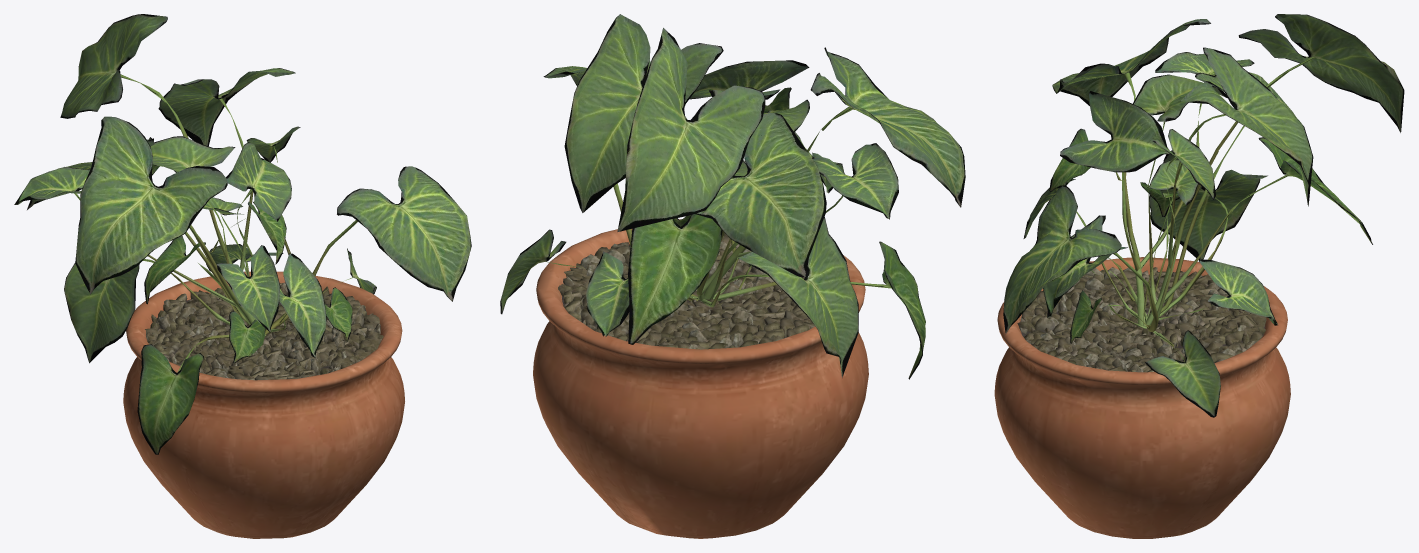
The model's file is ph-potted_plant_02.glb.
3 views of the same model, side by side, from view 1: azimuth 30°, elevation 25°; view 2: azimuth 150°, elevation 25°; view 3: azimuth 270°, elevation 25° (orthographic). The views are drawn at different scales.
Parts seen in each view (by area): view 1: potted_plant_02_leaves, potted_plant_02_pot; view 2: potted_plant_02_leaves, potted_plant_02_pot; view 3: potted_plant_02_pot, potted_plant_02_leaves.
Part boxes in pixels (x1=…): potted_plant_02_leaves: x1=14, y1=14, x2=471, y2=454; potted_plant_02_pot: x1=123, y1=271, x2=404, y2=538; potted_plant_02_leaves: x1=500, y1=14, x2=965, y2=379; potted_plant_02_pot: x1=533, y1=219, x2=868, y2=538; potted_plant_02_pot: x1=994, y1=257, x2=1290, y2=538; potted_plant_02_leaves: x1=1003, y1=14, x2=1404, y2=417.
Size of the model in its own units: 0.8346 by 1 by 0.7806.
Materials: 2 (2 with a texture image).
